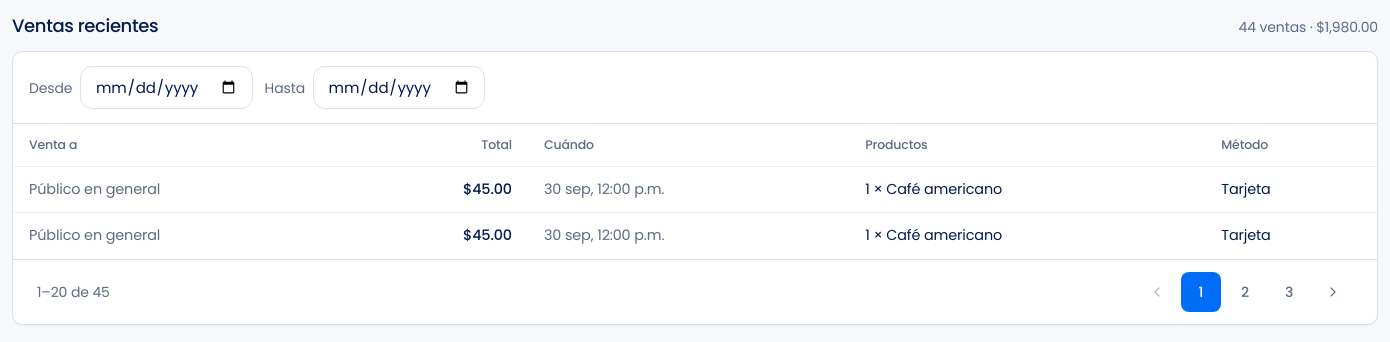
it: ventas del mostrador › con fechas vuelve a la primera página y se puede quitar el filtro
This screenshot has width=1390, height=342.
Step 1. Type "2026-09-01" into the date field labelled "Desde" → x=166, y=88, box 80,66 -> 253,109
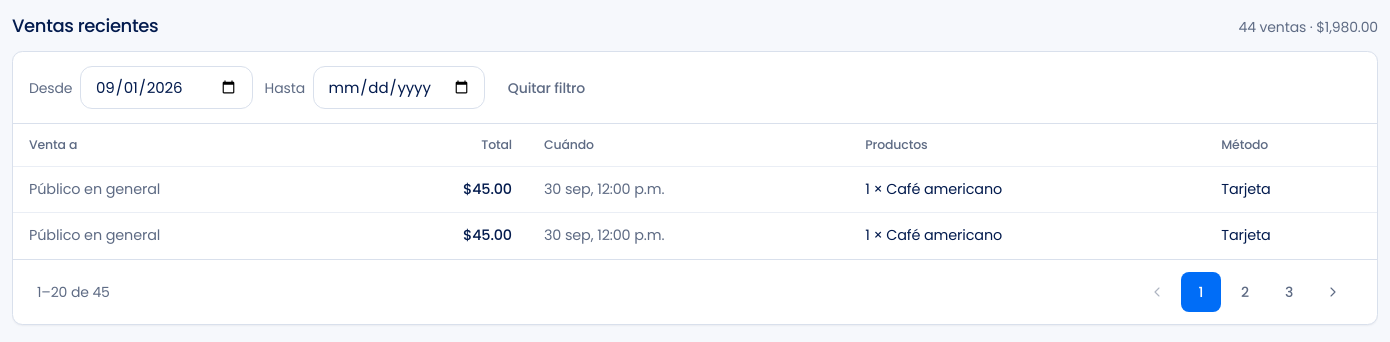
Step 2. Type "2026-09-30" into the date field labelled "Hasta" → x=399, y=88, box 313,66 -> 485,109
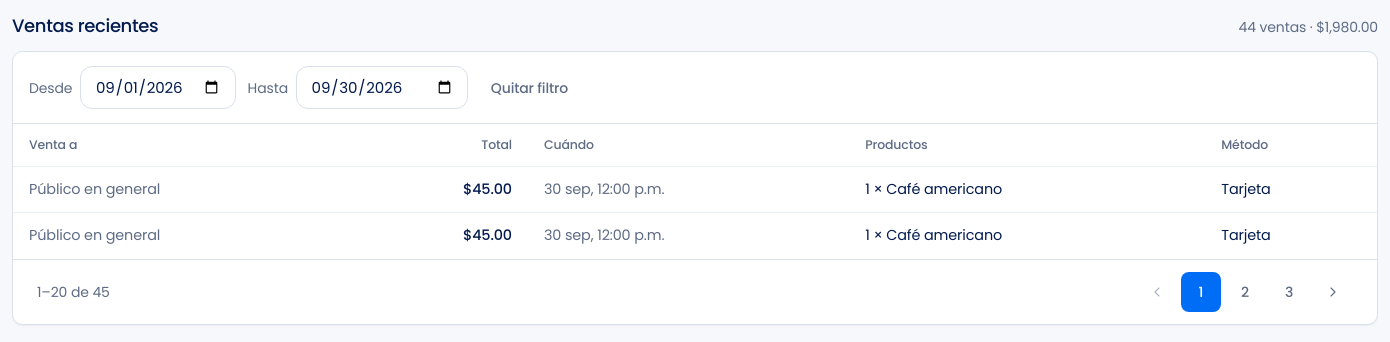
Step 3. Click the button "Quitar filtro" → x=529, y=88, box 480,68 -> 579,108
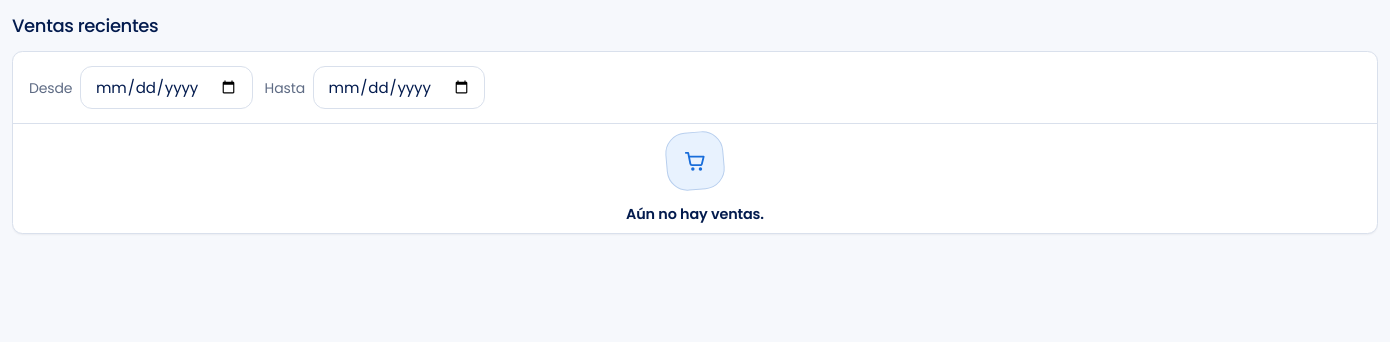
Expected: the text "Aún no hay ventas." is shown, 626,204 -> 764,225
